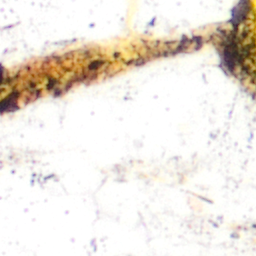cement_matrix: (220, 1, 255, 79), (0, 69, 20, 111), (44, 77, 61, 91), (85, 60, 100, 74), (27, 82, 36, 91)
cracks: (0, 0, 255, 116), (43, 76, 62, 92), (84, 59, 101, 75), (26, 81, 37, 92), (0, 90, 6, 94), (254, 54, 255, 69)
gravel_crushed_stones: (0, 45, 255, 255), (0, 0, 237, 67)
